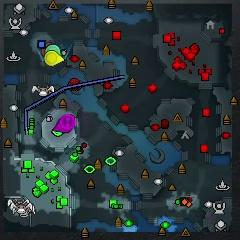p2: (45, 44, 61, 54)
p3: (54, 116, 74, 133)
p4: (44, 50, 63, 66)
